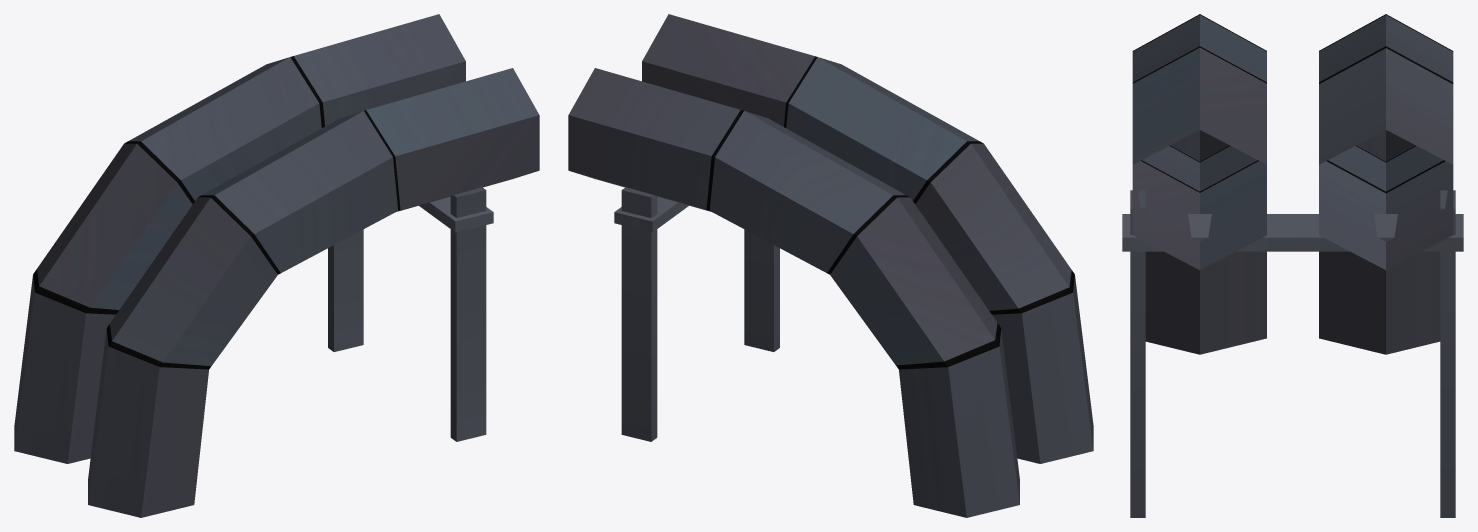
Rendered from SM_Pipe_4.FBX.
The picture shows the model from 3 angles, left to right: view 1: azimuth 30°, elevation 25°; view 2: azimuth 150°, elevation 25°; view 3: azimuth 270°, elevation 25°; orthographic projection. The views are drawn at different scales.
Parts seen in each view (by area): view 1: SM_Pipe_4; view 2: SM_Pipe_4; view 3: SM_Pipe_4.
Part boxes in pixels (<box>): SM_Pipe_4: <box>14,14,539,517</box>; SM_Pipe_4: <box>568,14,1093,517</box>; SM_Pipe_4: <box>1122,14,1463,517</box>.
Size of what is drawn, in the model's own units: 320 by 176 by 240.
